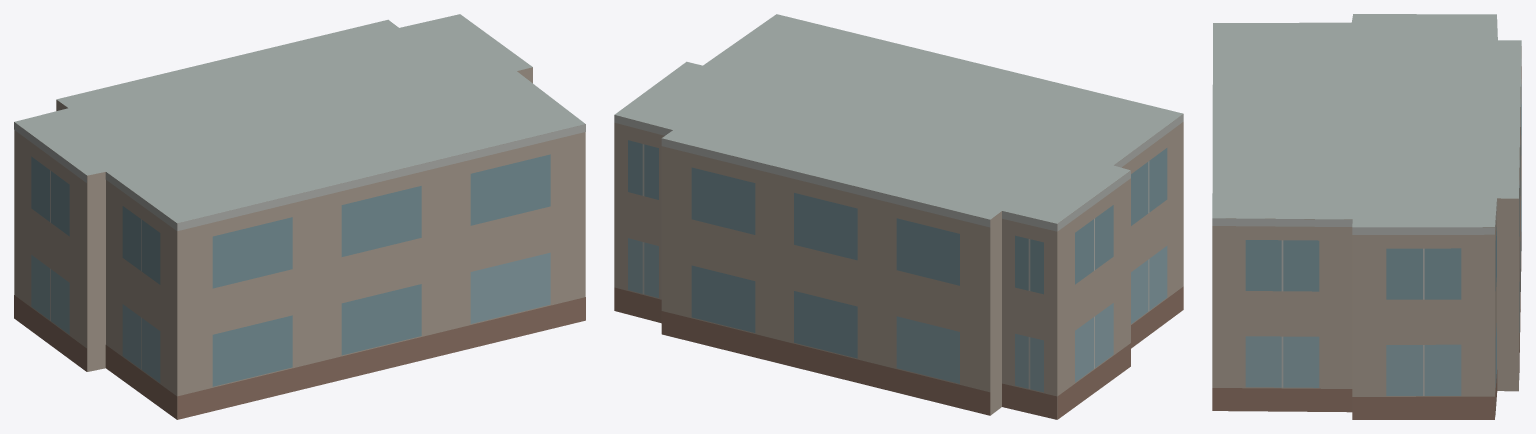
Rendered from survey-upis-32549963.glb.
3 renders of one model, left to right at view 1: azimuth 30°, elevation 25°; view 2: azimuth 150°, elevation 25°; view 3: azimuth 270°, elevation 25°, orthographic.
Parts seen in each view (by area): view 1: survey-upis-32549963.tmp; view 2: survey-upis-32549963.tmp; view 3: survey-upis-32549963.tmp.
Part boxes in pixels (x1,y1,x2,y2): survey-upis-32549963.tmp: (14, 14, 585, 419); survey-upis-32549963.tmp: (614, 14, 1183, 419); survey-upis-32549963.tmp: (1212, 14, 1521, 419).
Size of the model in its own units: 14.49 by 6.1 by 8.89.
